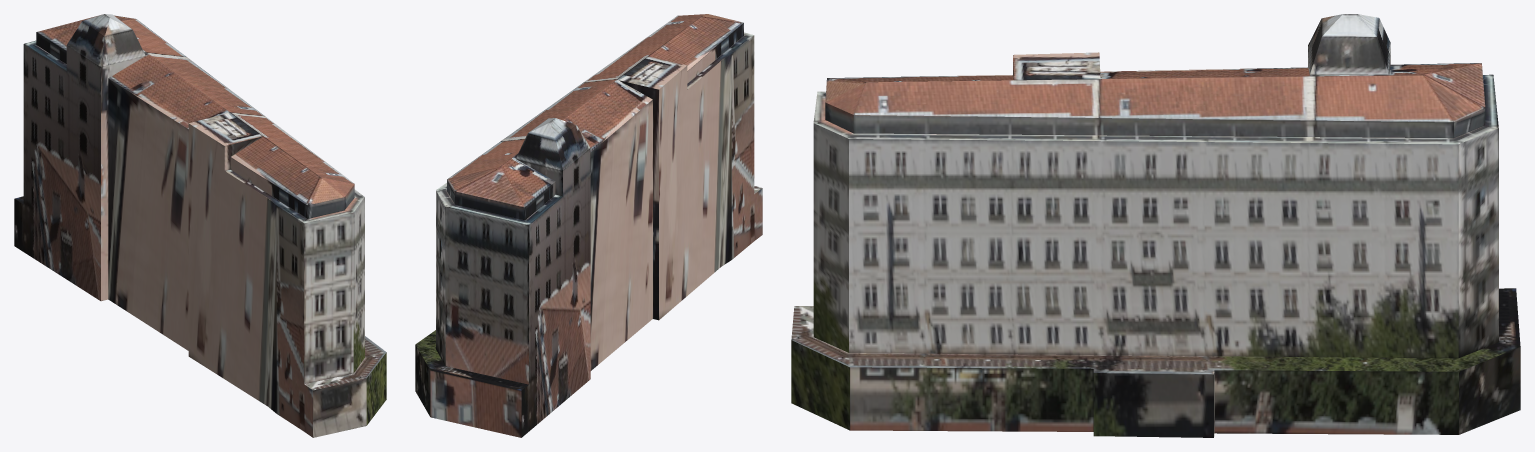
The picture shows the model from 3 angles, left to right: view 1: azimuth 30°, elevation 25°; view 2: azimuth 150°, elevation 25°; view 3: azimuth 270°, elevation 25°; orthographic projection. The views are drawn at different scales.
Visible parts, largest first — view 1: Z_UP; view 2: Z_UP; view 3: Z_UP.
Boxes of the visible parts, x1,y1,x2,y2 form: Z_UP: (14, 14, 386, 437); Z_UP: (415, 14, 762, 437); Z_UP: (791, 14, 1520, 437).
Size of the model in its own units: 16.18 by 31.11 by 57.57.
Materials: 2 (1 with a texture image).
